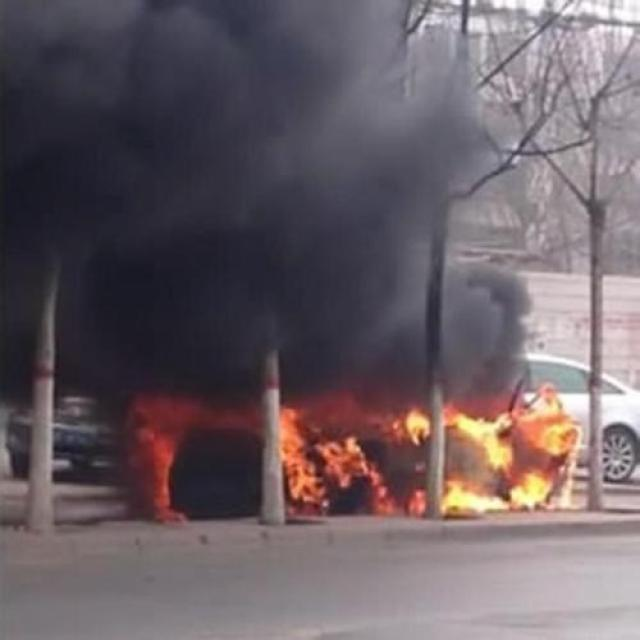Fire: (282, 394, 432, 520), (444, 384, 584, 514), (133, 399, 194, 524)
Smoke: (2, 2, 532, 406)
